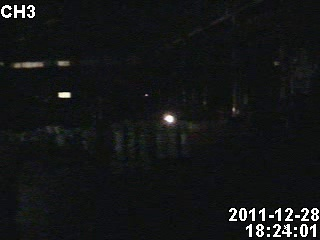fire: (157, 110, 179, 126)
